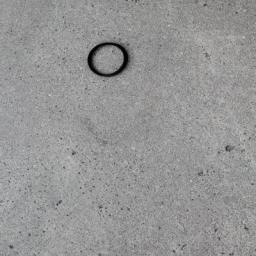FOD: (85, 42, 136, 81)
